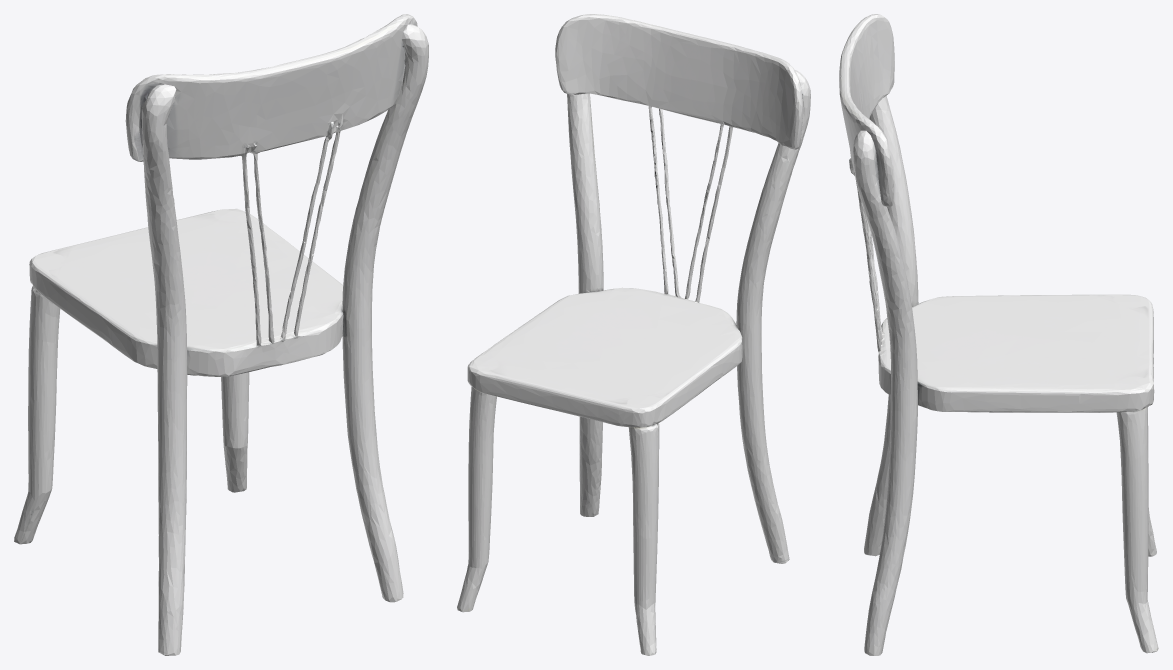
Rendered from chair.FBX.
3 views of the same model, side by side, from view 1: azimuth 30°, elevation 25°; view 2: azimuth 150°, elevation 25°; view 3: azimuth 270°, elevation 25° (orthographic). The views are drawn at different scales.
Parts seen in each view (by area): view 1: temp; view 2: temp; view 3: temp.
Part boxes in pixels (x1,y1,x2,y2): temp: (14,14,428,655); temp: (457,14,810,655); temp: (839,14,1158,655).
Size of the model in its own units: 104 by 200 by 108.
1 material, 1 textured.
